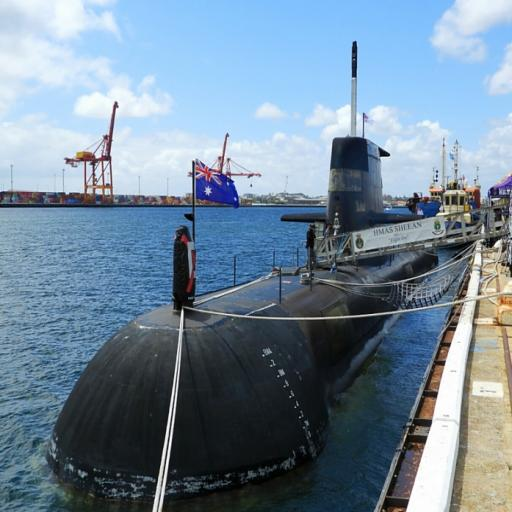submarine: (44, 43, 427, 510)
